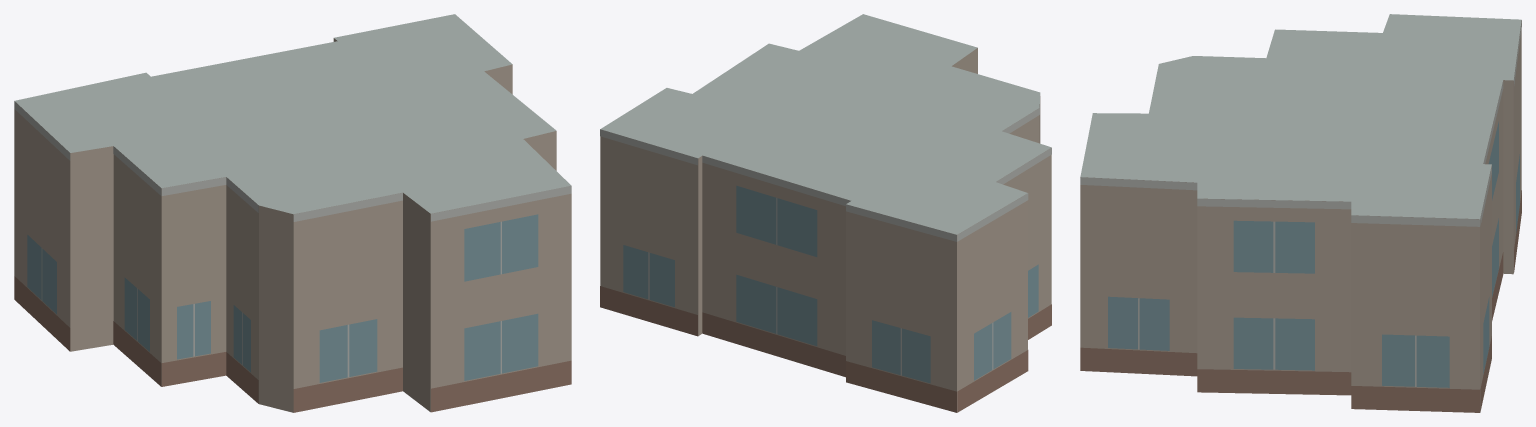
Rendered from survey-upis-32689803.glb.
The picture shows the model from 3 angles, left to right: view 1: azimuth 30°, elevation 25°; view 2: azimuth 150°, elevation 25°; view 3: azimuth 270°, elevation 25°; orthographic projection. The views are drawn at different scales.
Visible parts, largest first — view 1: survey-upis-32689803.tmp; view 2: survey-upis-32689803.tmp; view 3: survey-upis-32689803.tmp.
Part boxes in pixels (x1=…): survey-upis-32689803.tmp: x1=14, y1=14, x2=571, y2=412; survey-upis-32689803.tmp: x1=600, y1=14, x2=1051, y2=412; survey-upis-32689803.tmp: x1=1080, y1=14, x2=1521, y2=412.
Bounding box in the file's own units: 13.86 × 6.1 × 12.61.
